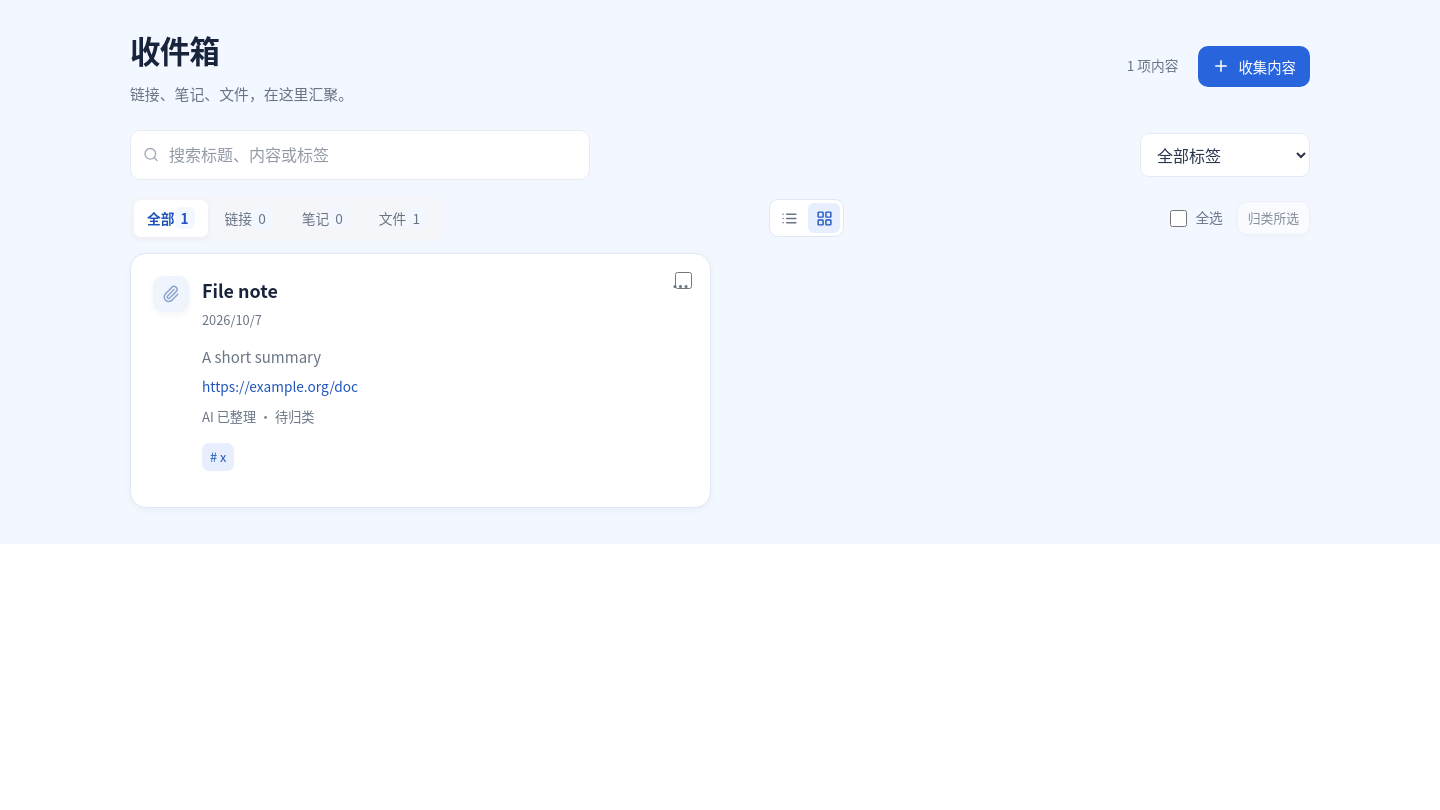
Test: inbox card opens a preview with edit, open-original and download actions
Click the button "File note". click: x=240, y=290
box: [202, 276, 278, 304]
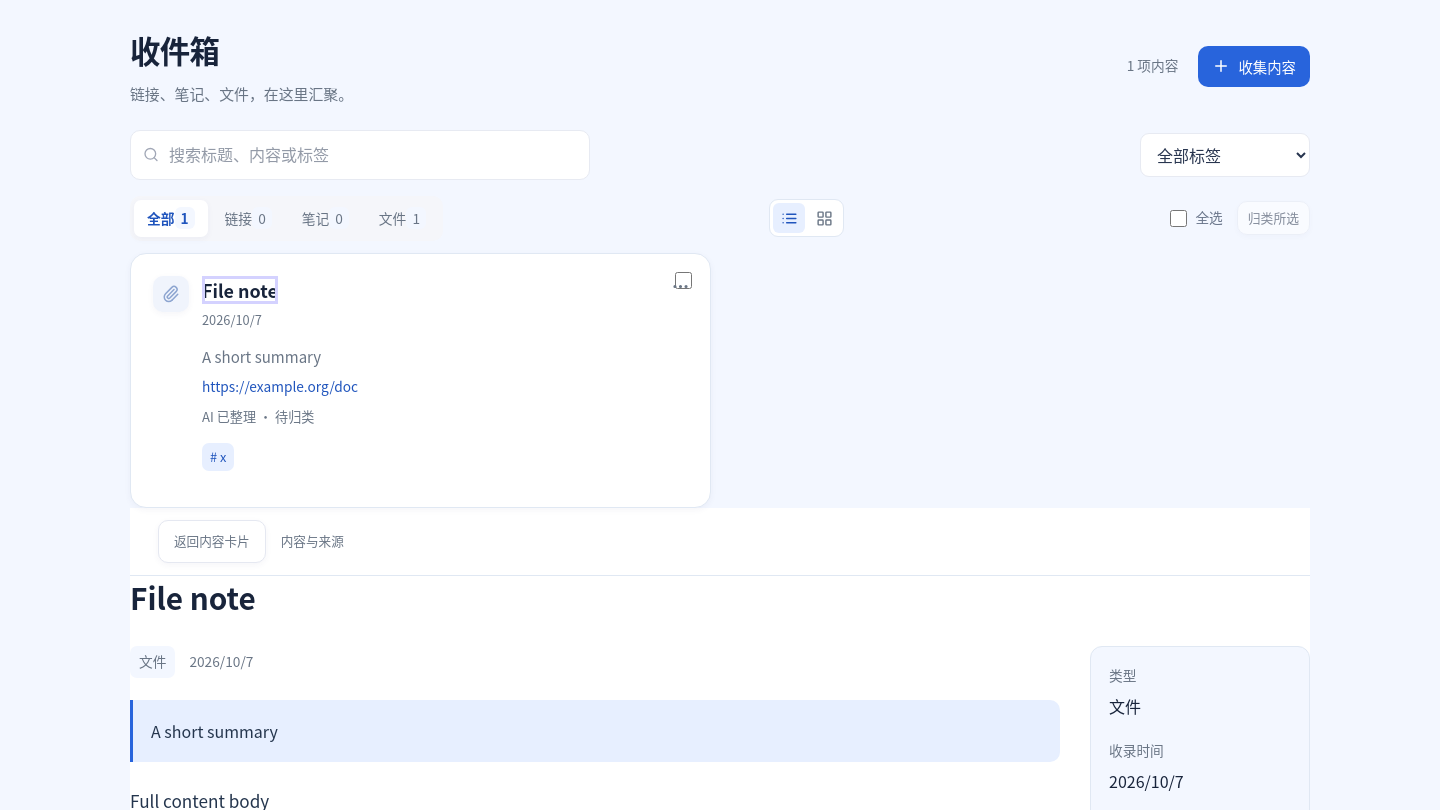
Now the text "Full content body" is shown, box [130, 788, 269, 809]
Now the text "A short summary" is shown once, box [130, 700, 1060, 762]
Click the button "返回内容卡片". click: x=212, y=541
box: [158, 520, 266, 562]
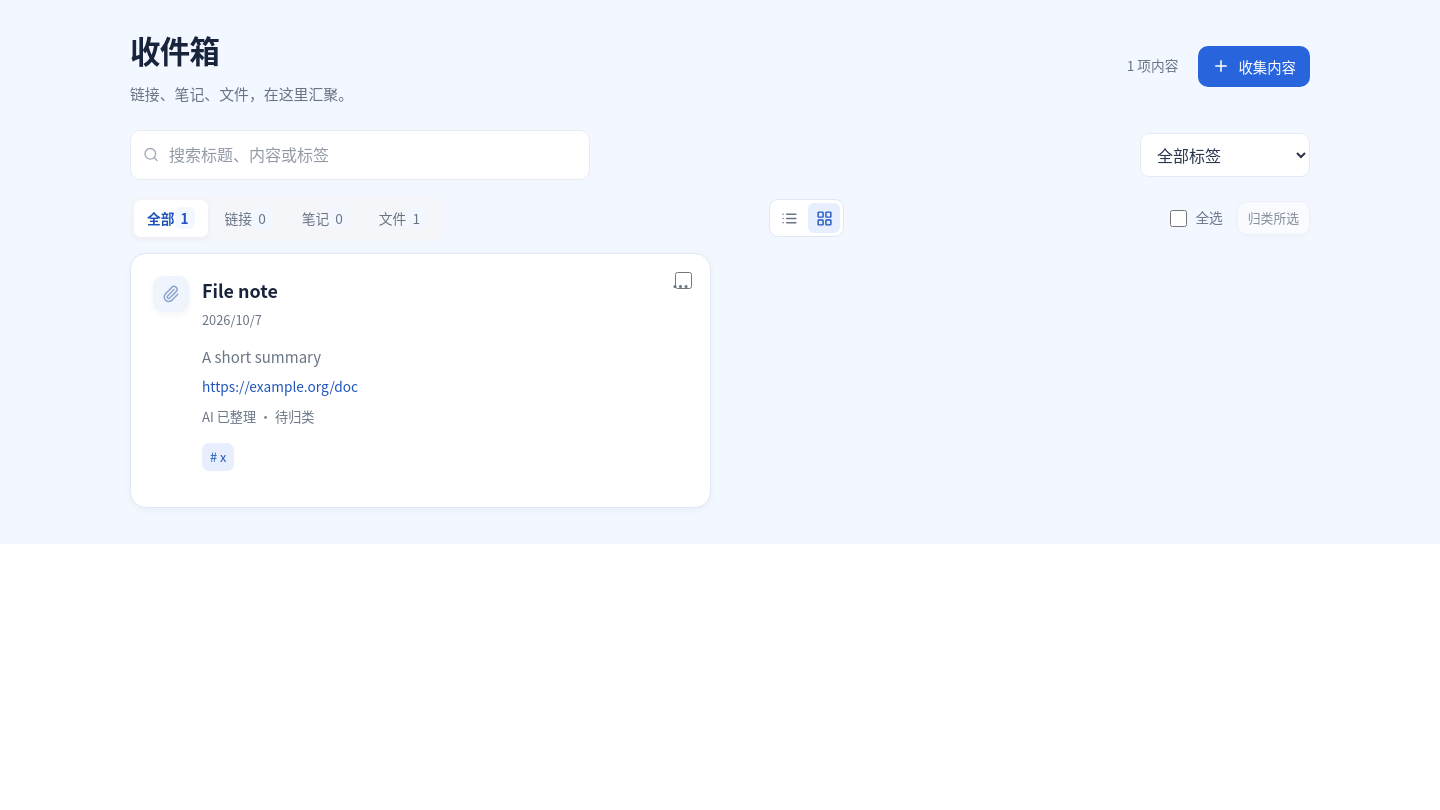
Now the button named "内容卡片视图" is pressed, box [808, 203, 840, 233]
Click the button "File note". click: x=240, y=290
box: [202, 276, 278, 304]
(page scrolled)
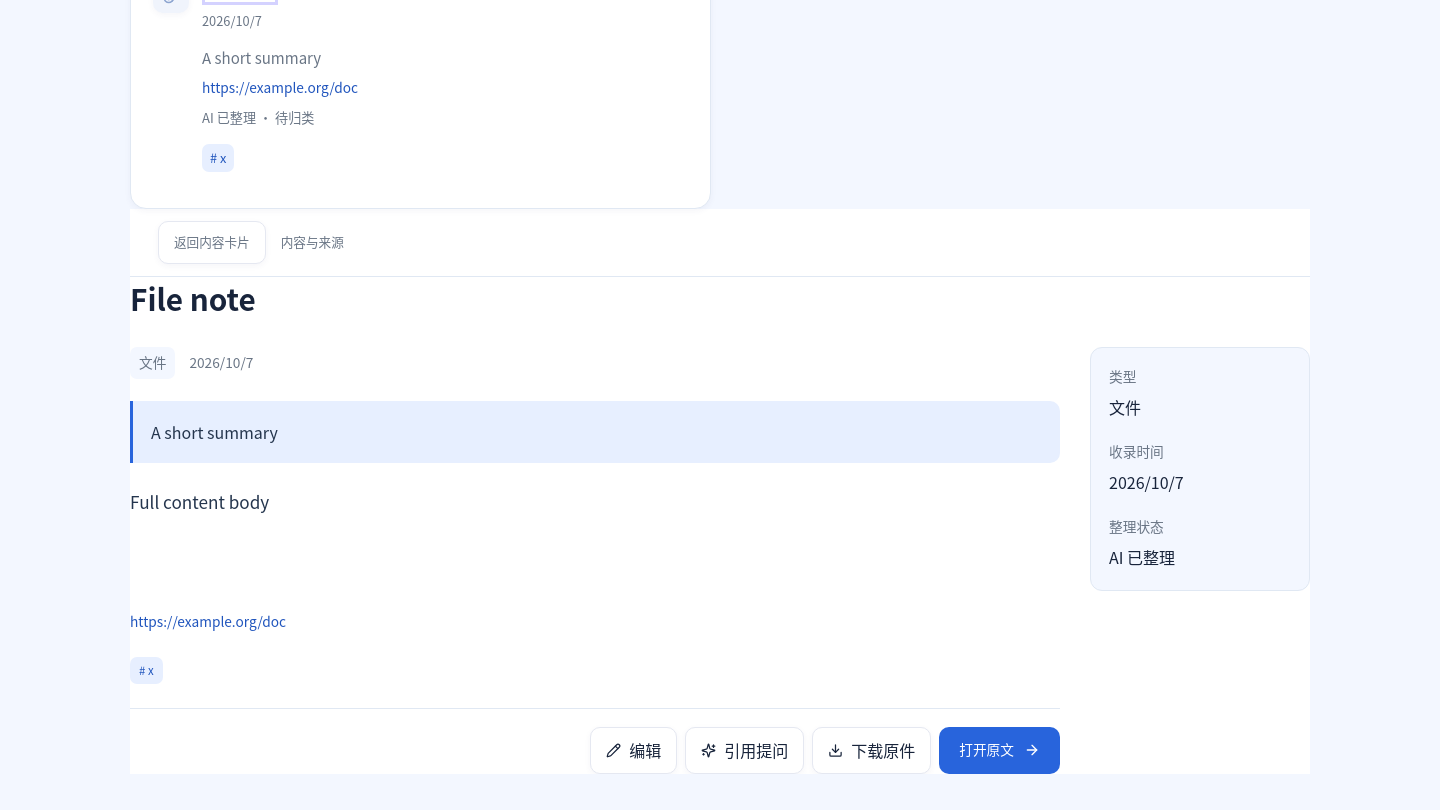
Click the button "编辑". click: x=634, y=750
box: [590, 727, 677, 774]
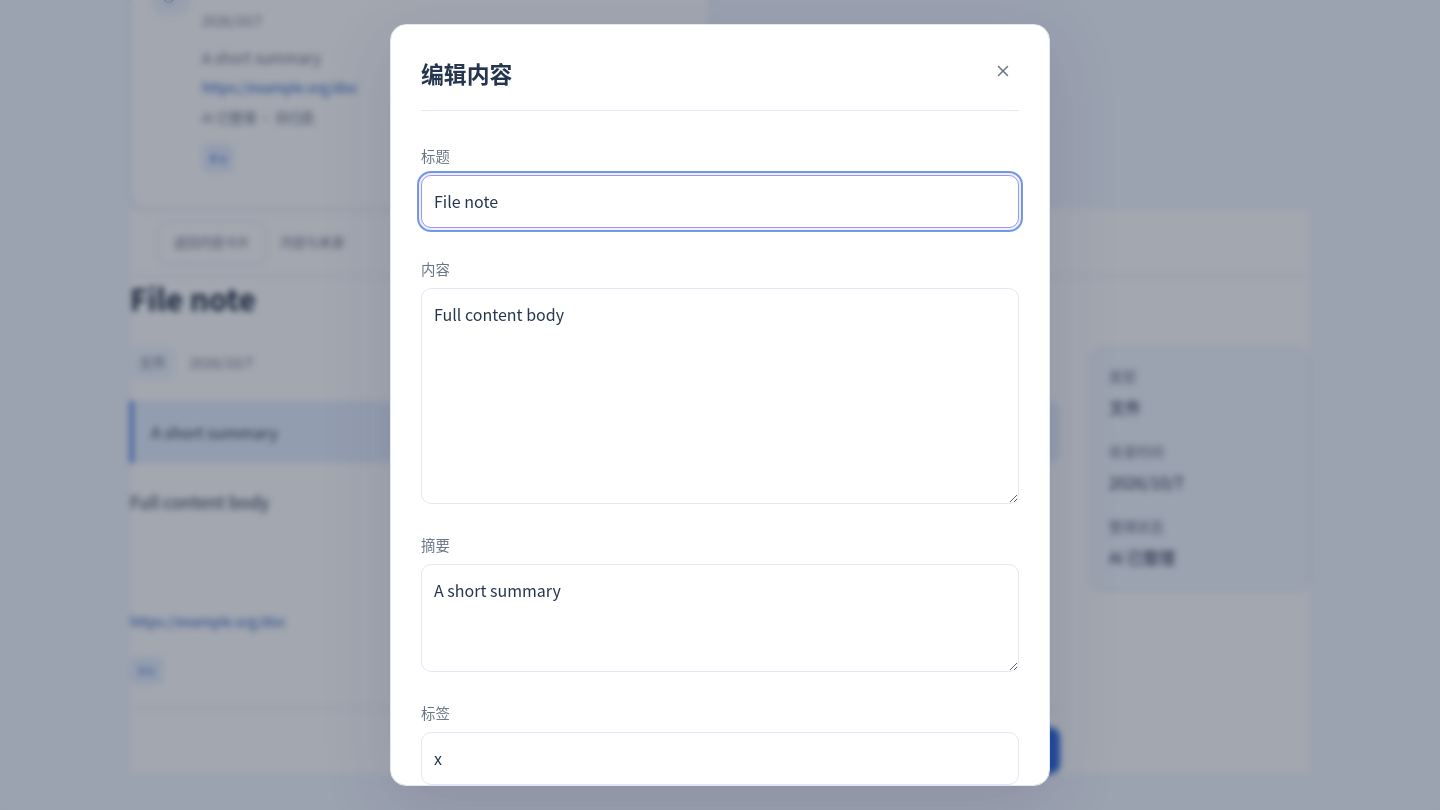
Now the heading "编辑内容" is shown, box [421, 55, 512, 92]
